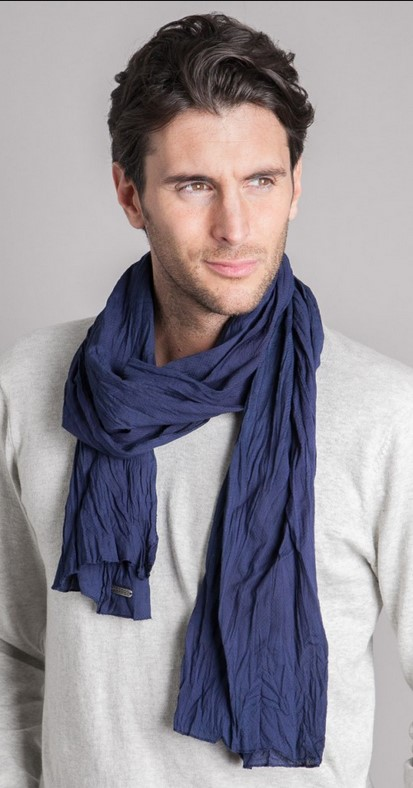face_no_mask: (104, 19, 314, 325)
